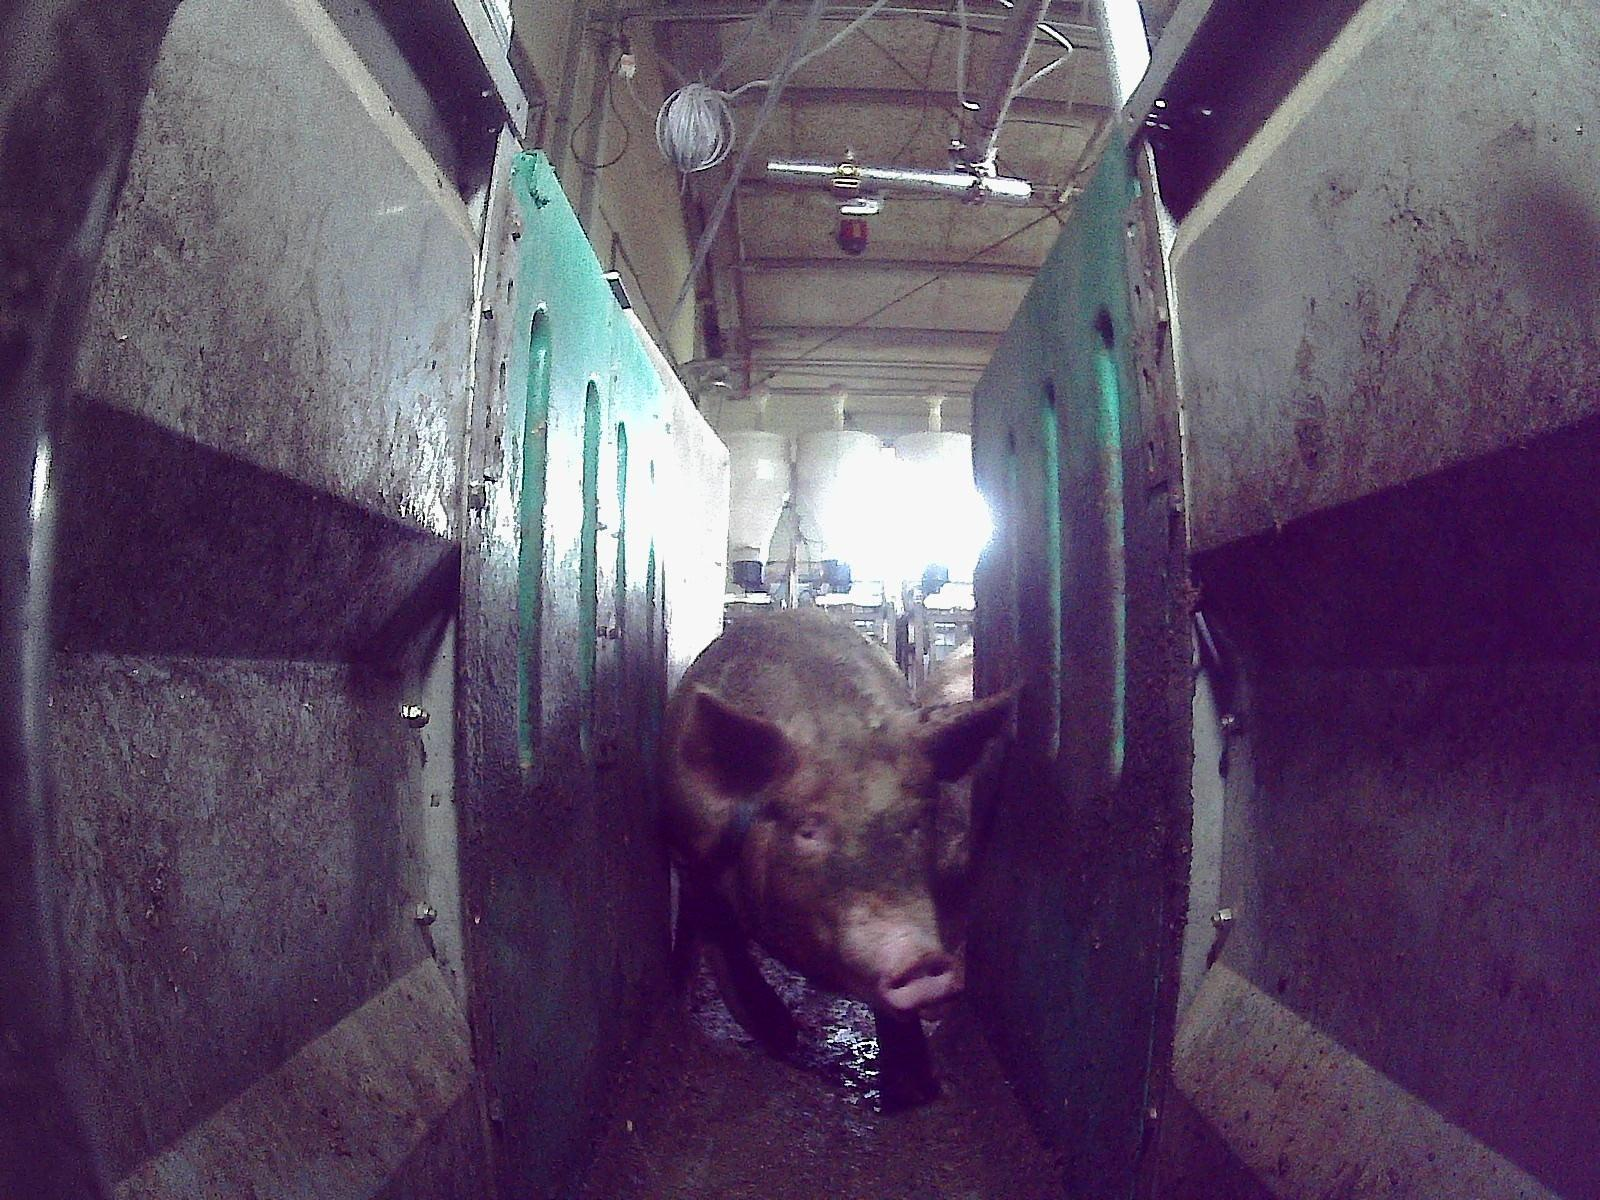Face: (762, 743, 953, 1024)
